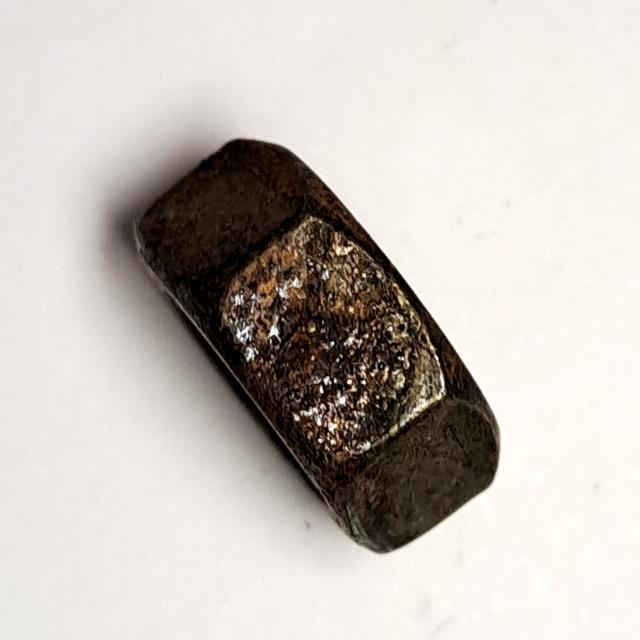Side_Rust: (104, 130, 525, 568)
